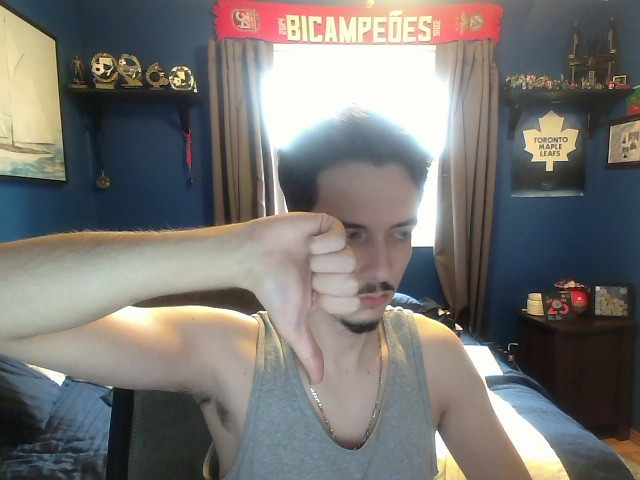ThumbsDown: (241, 210, 360, 384)
